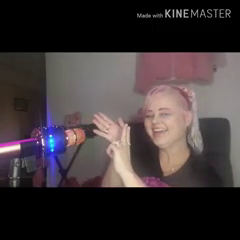N: (90, 110, 139, 178)
